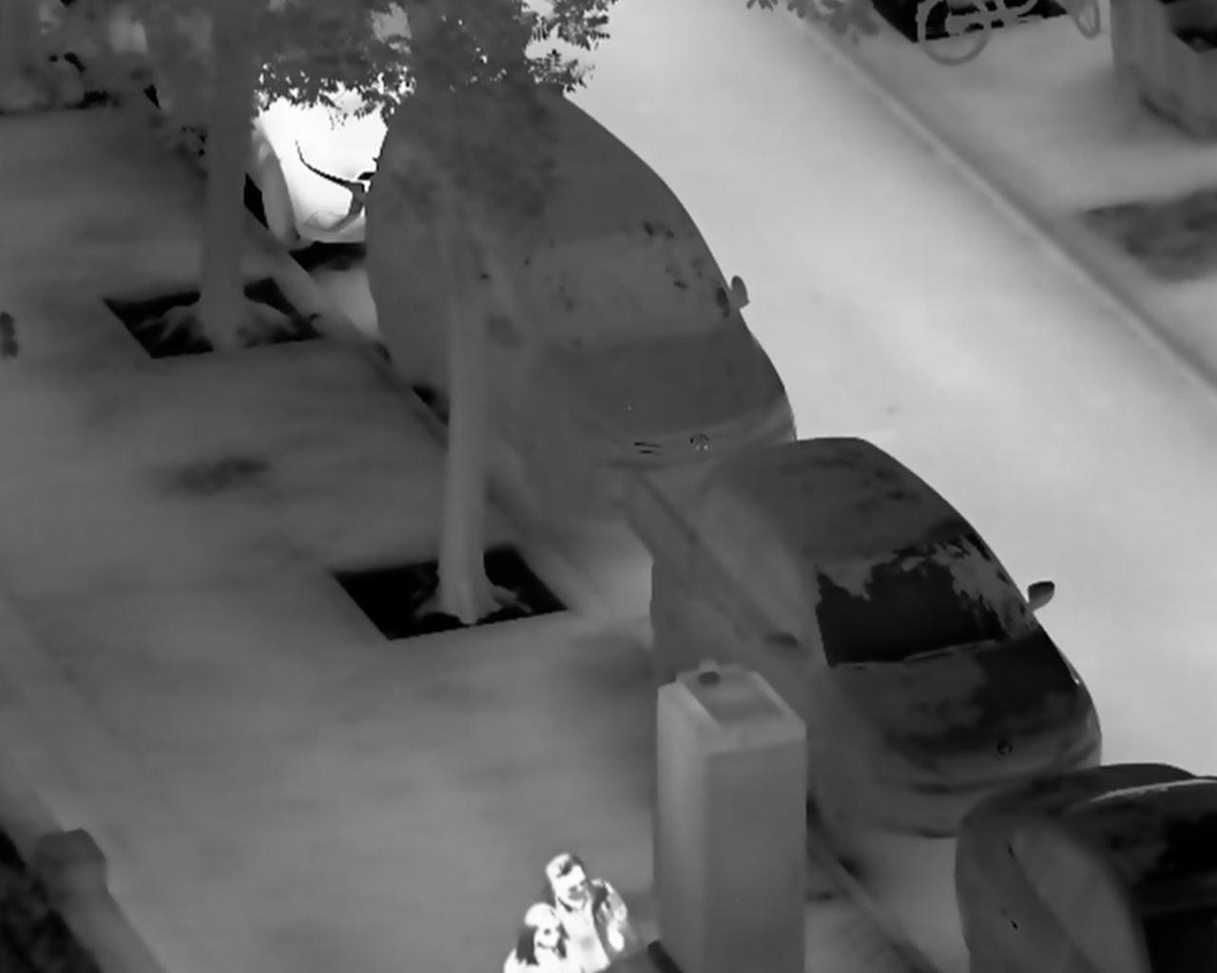person: (531, 848, 642, 973), (504, 899, 587, 973)
